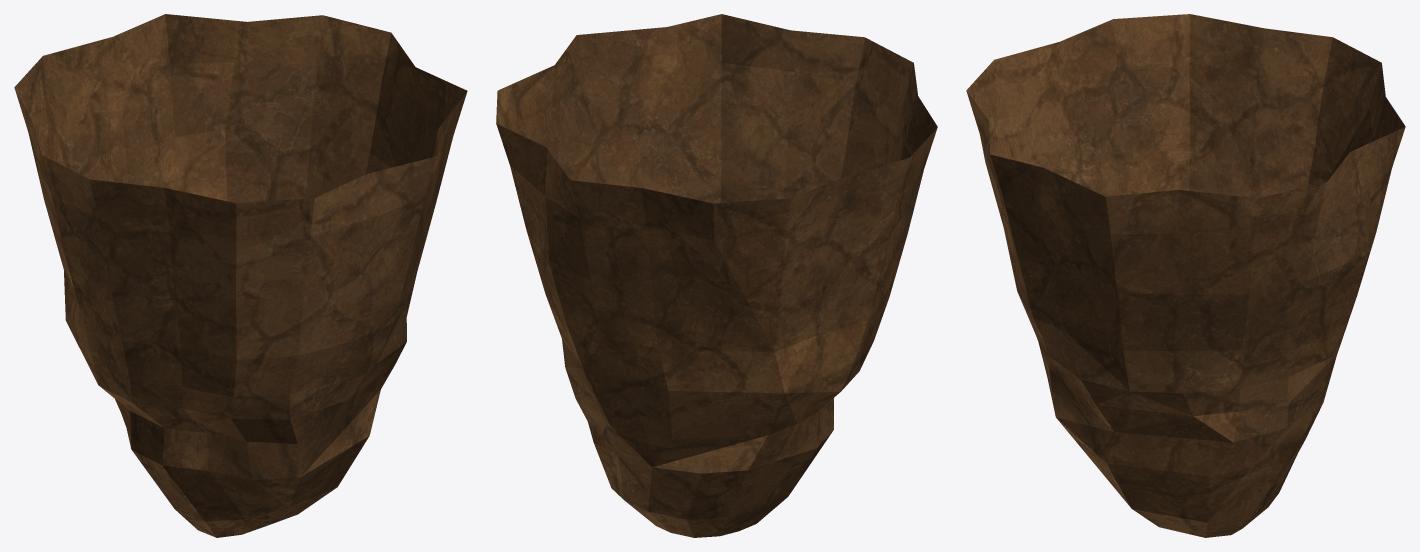
The model's file is piattaforma_scoscesa4.fbx.
The picture shows the model from 3 angles, left to right: view 1: azimuth 30°, elevation 25°; view 2: azimuth 150°, elevation 25°; view 3: azimuth 270°, elevation 25°; orthographic projection. The views are drawn at different scales.
Parts seen in each view (by area): view 1: ground4; view 2: ground4; view 3: ground4.
Boxes of the visible parts, x1,y1,x2,y2 form: ground4: (14,14,467,537); ground4: (496,14,937,537); ground4: (966,14,1405,537).
Size of the model in its own units: 366 by 374 by 369.
